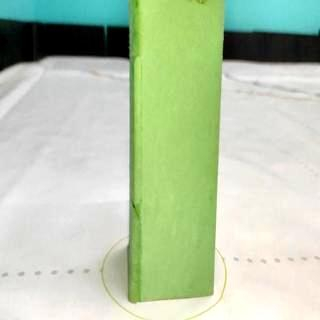greenbox: (126, 0, 225, 305)
